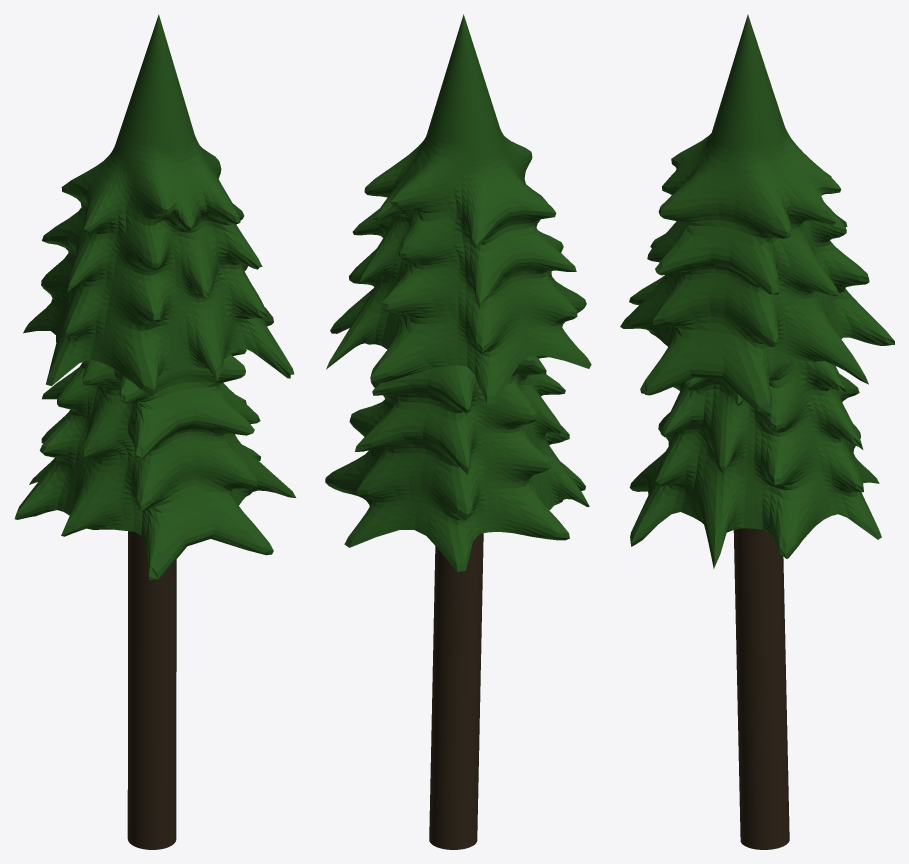
Rendered from Tree.glb.
The picture shows the model from 3 angles, left to right: view 1: azimuth 30°, elevation 25°; view 2: azimuth 150°, elevation 25°; view 3: azimuth 270°, elevation 25°; orthographic projection.
Visible parts, largest first — view 1: Cone 2, Cone, Cylinder; view 2: Cone 2, Cone, Cylinder; view 3: Cone 2, Cone, Cylinder.
Part boxes in pixels (box(x1,y1,x2,y2)): Cone 2: box(23, 14, 294, 396); Cone: box(14, 348, 295, 580); Cylinder: box(127, 531, 176, 849); Cone 2: box(326, 14, 591, 403); Cone: box(325, 355, 589, 572); Cylinder: box(429, 533, 483, 849); Cone 2: box(620, 14, 894, 416); Cone: box(629, 360, 881, 568); Cylinder: box(733, 528, 789, 849).
Bounding box in the file's own units: 3.52 × 11.2 × 3.38.
